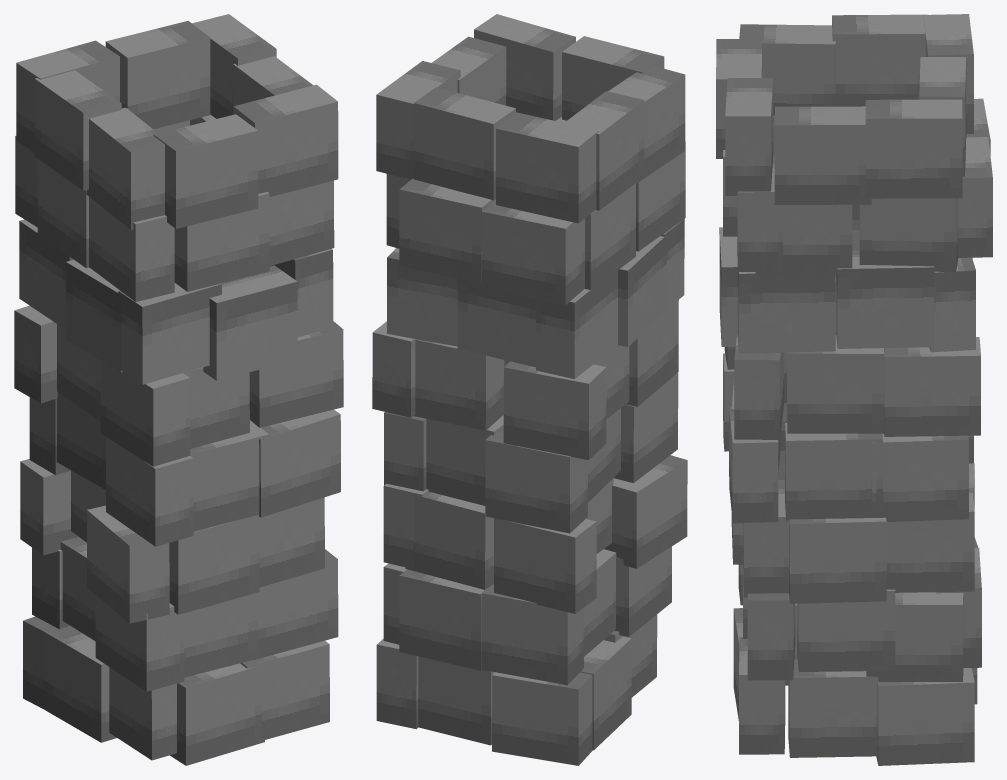
The model's file is isoled_tower_little.glb.
3 views of the same model, side by side, from view 1: azimuth 30°, elevation 25°; view 2: azimuth 150°, elevation 25°; view 3: azimuth 270°, elevation 25° (orthographic). The views are drawn at different scales.
Parts seen in each view (by area): view 1: Plane.013; view 2: Plane.013; view 3: Plane.013.
Part boxes in pixels (x1,y1,x2,y2): Plane.013: [14, 14, 343, 765]; Plane.013: [372, 14, 687, 765]; Plane.013: [716, 14, 992, 765].
Bounding box in the file's own units: 1.63 × 4.45 × 1.72.
Materials: 1 (1 with a texture image).
